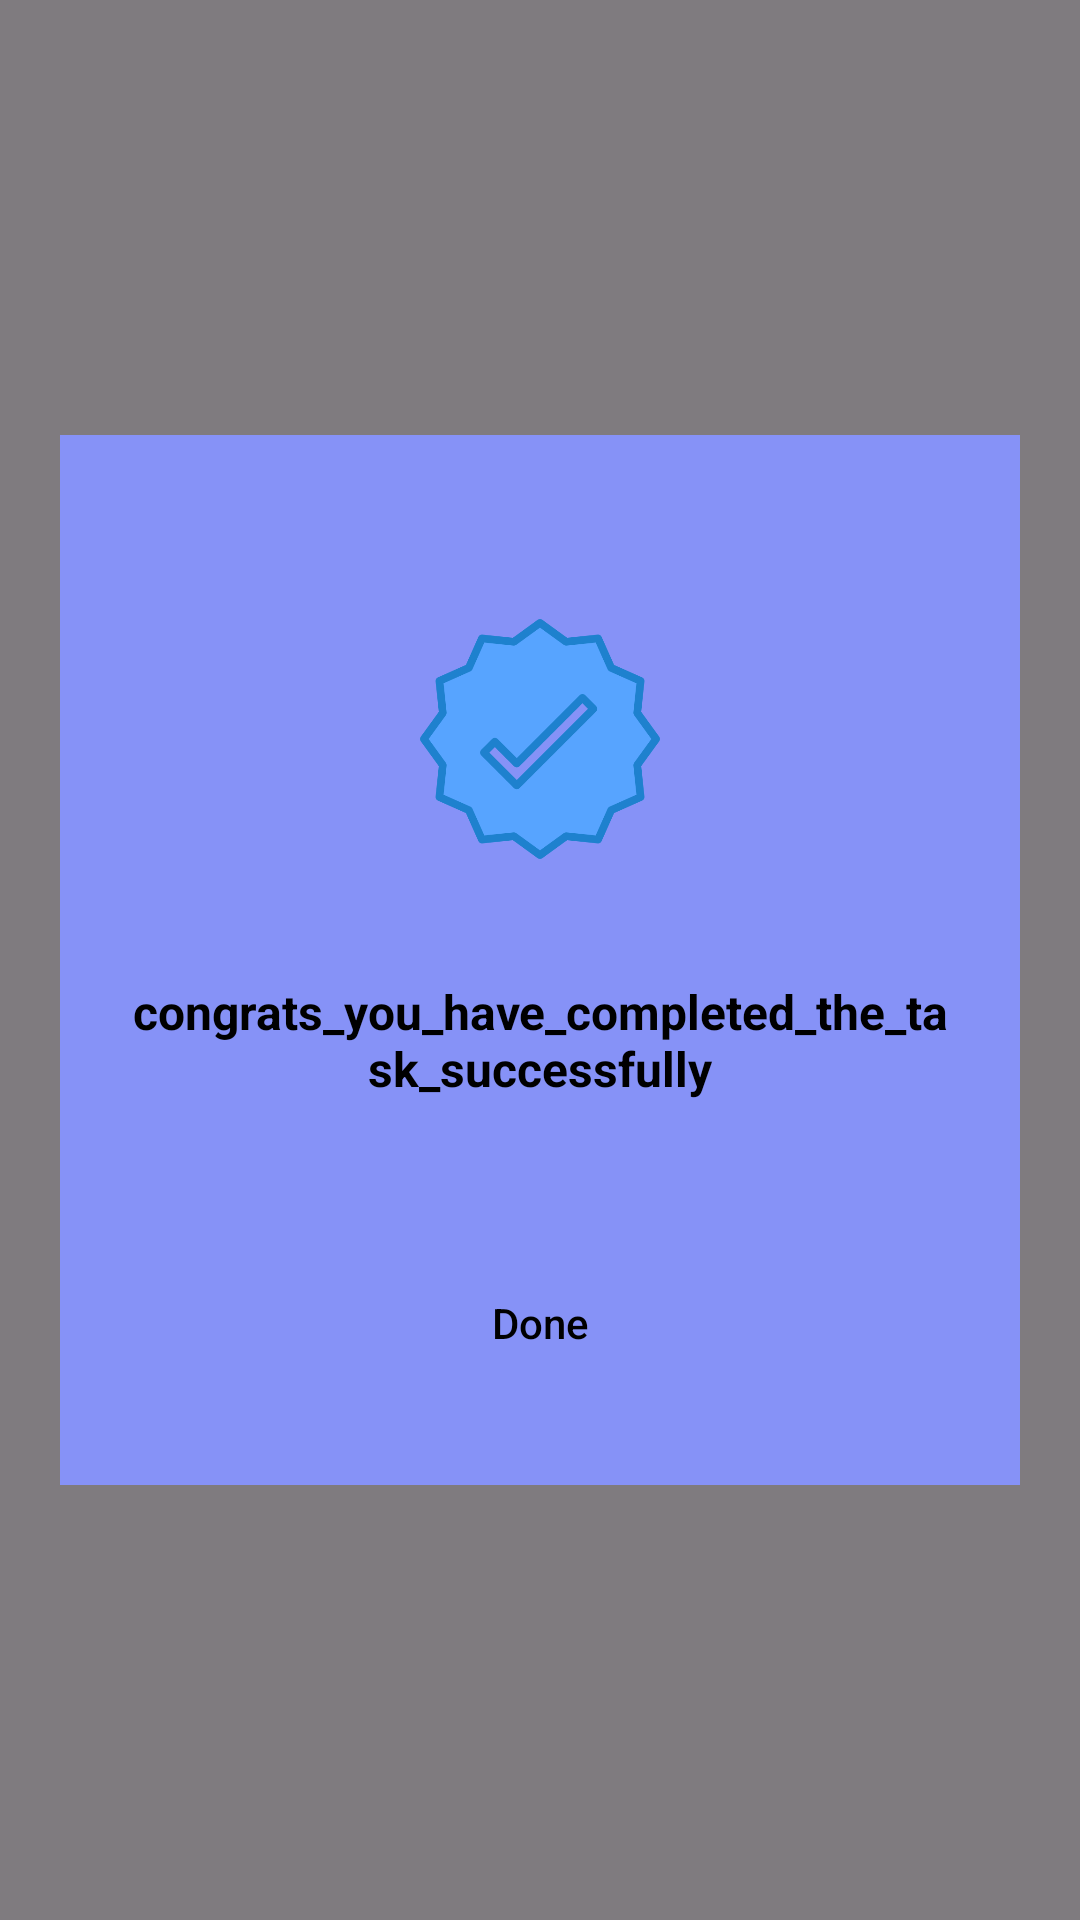

Icons on this 1080*1920 Android screen, each with its box as [x1, y1, x2, y2]:
correct: [420, 619, 660, 859]
